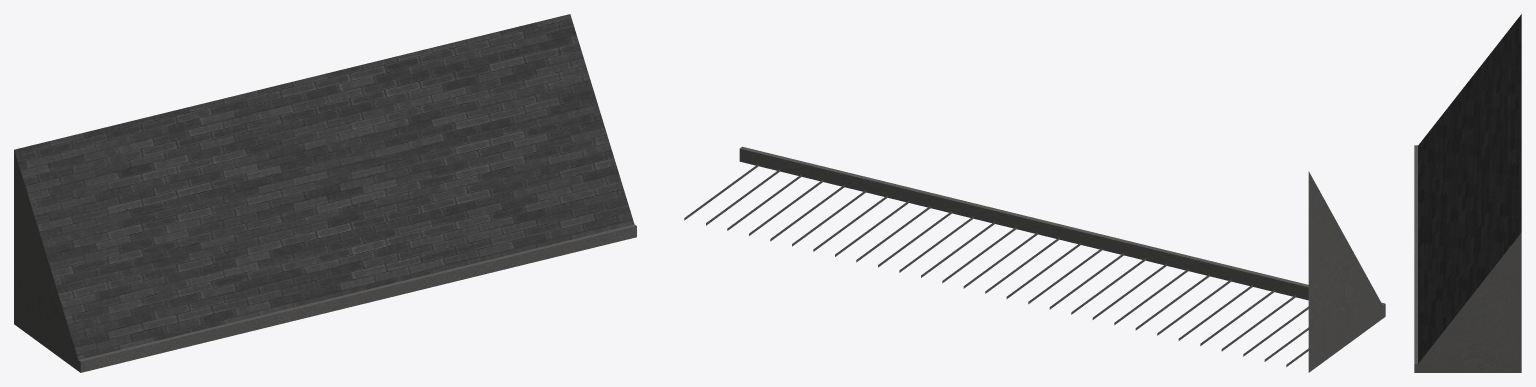
File: Sm_Roof01.glb
3 renders of one model, left to right at view 1: azimuth 30°, elevation 25°; view 2: azimuth 150°, elevation 25°; view 3: azimuth 270°, elevation 25°, orthographic. The views are drawn at different scales.
Visible parts, largest first — view 1: Sm_Roof01; view 2: Sm_Roof01; view 3: Sm_Roof01.
Boxes of the visible parts, <box> form: Sm_Roof01: <box>14,14,636,372</box>; Sm_Roof01: <box>684,146,1385,372</box>; Sm_Roof01: <box>1414,14,1521,372</box>.
Bounding box in the file's own units: 500 × 150 × 104.
2 materials, 2 textured.
